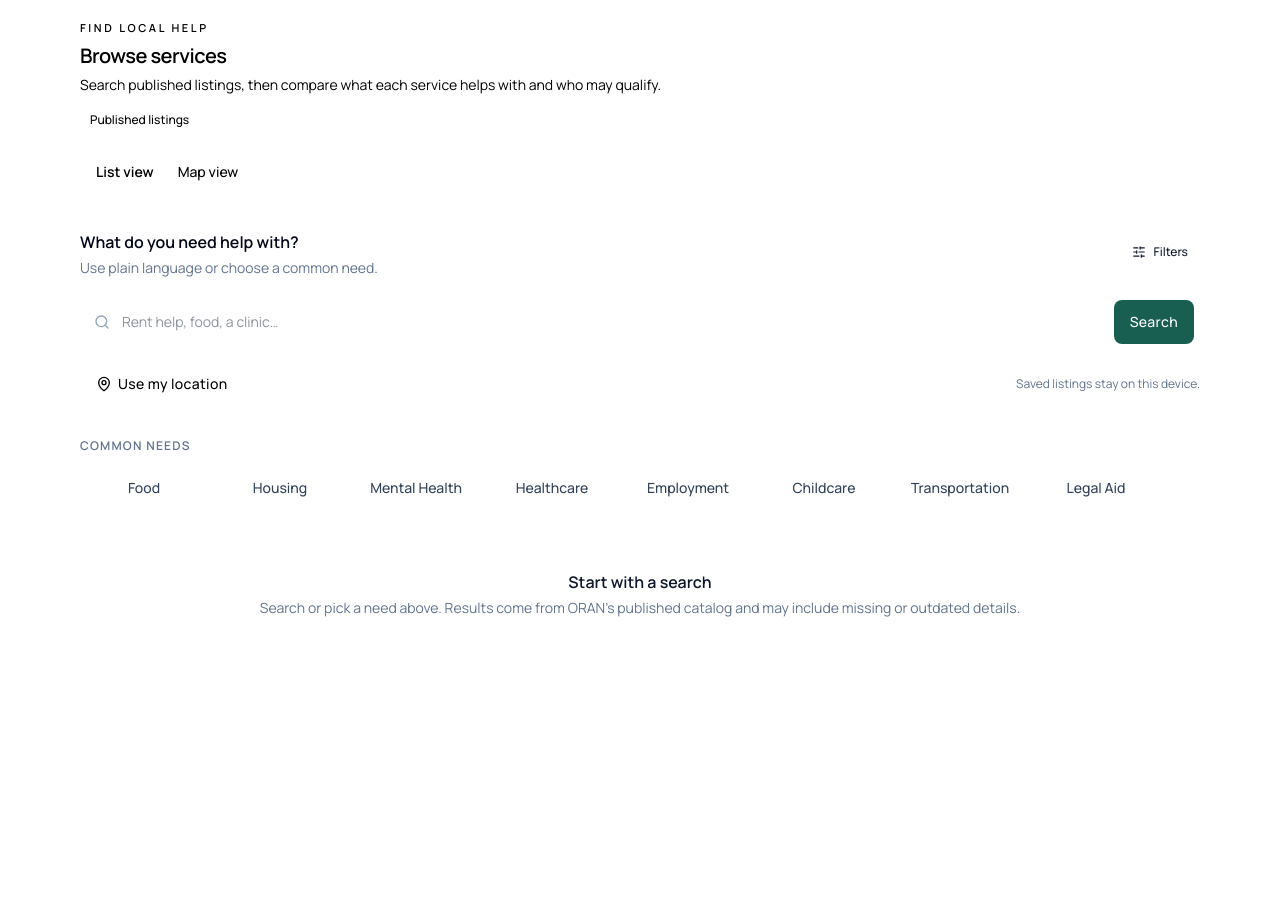
Test: DirectoryPageClient › handles geolocation timeout branch and avoids firing a search
The width and height of the screenshot is (1280, 900).
Click the button "Use my location" at (162, 384), box [80,362,244,406]
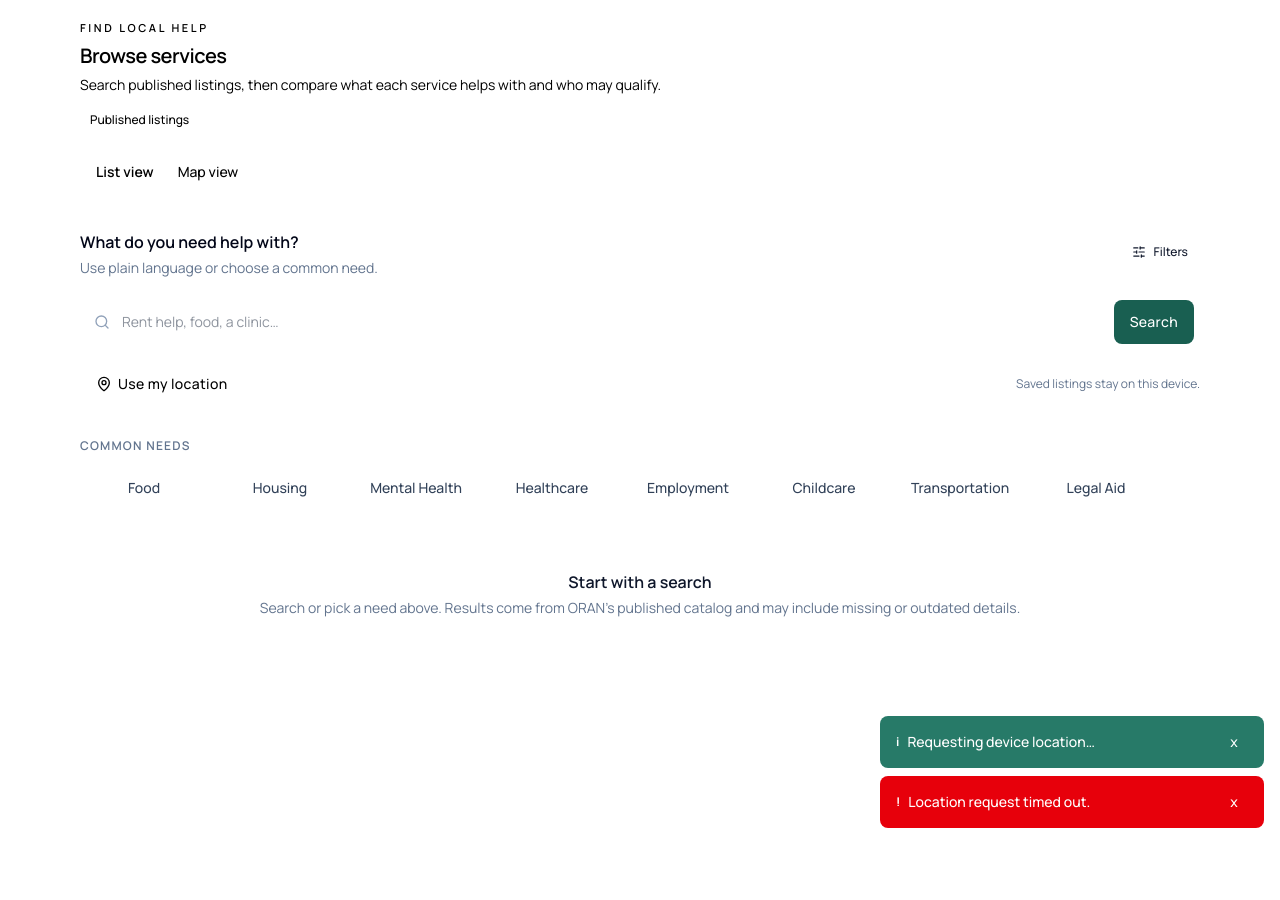
Result: the text "Location request timed out." is shown at [908,792,1090,811]
